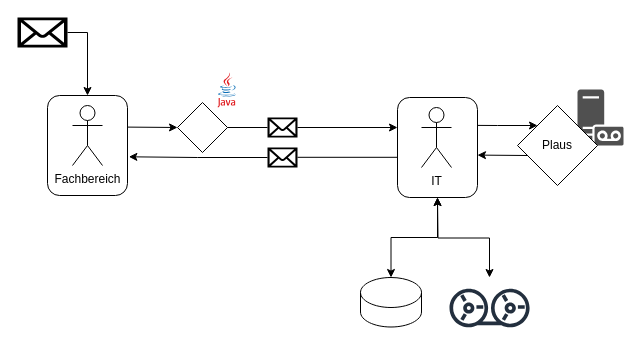
Some shapes in this 640 by 344 pixel diagram are drawn without their labels. Here are the shapes that lost their labels. From the top down, the centre of each, then its label:
pixel 202 127: Vorplaus
pixel 391 301: DB
